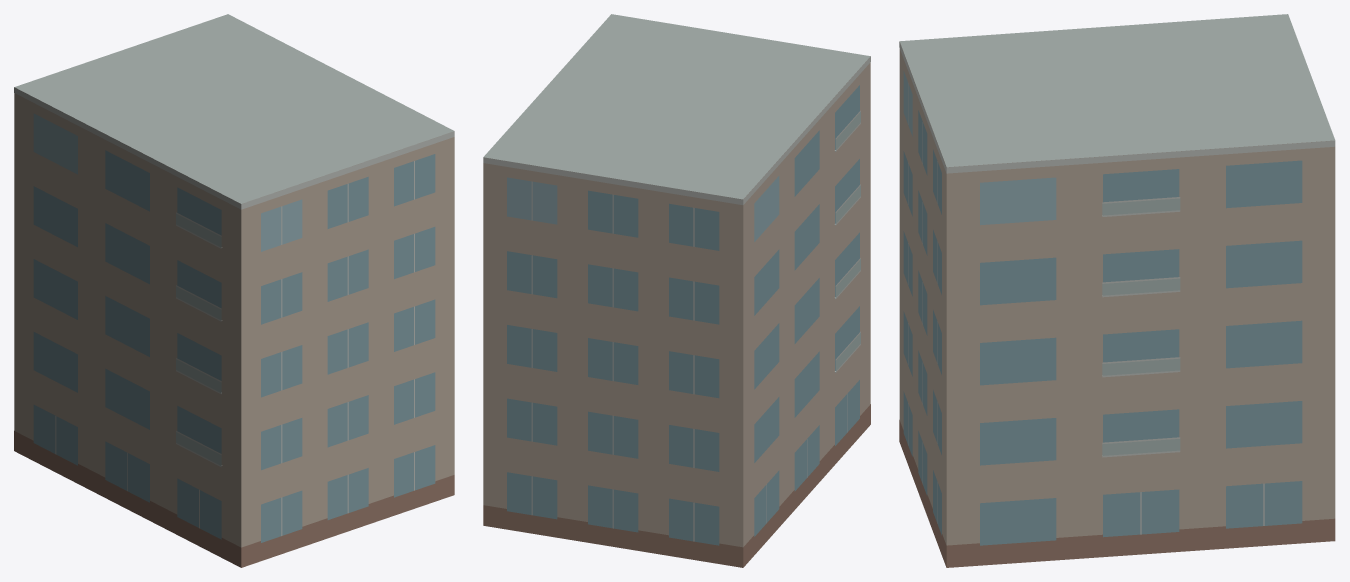
The model's file is survey-upis-32575460.glb.
3 renders of one model, left to right at view 1: azimuth 30°, elevation 25°; view 2: azimuth 150°, elevation 25°; view 3: azimuth 270°, elevation 25°, orthographic. The views are drawn at different scales.
Parts seen in each view (by area): view 1: survey-upis-32575460.tmp; view 2: survey-upis-32575460.tmp; view 3: survey-upis-32575460.tmp.
Boxes of the visible parts, left/top/right/bottom form: survey-upis-32575460.tmp: left=14, top=14, right=454, bottom=567; survey-upis-32575460.tmp: left=483, top=14, right=870, bottom=567; survey-upis-32575460.tmp: left=899, top=14, right=1335, bottom=567.
Bounding box in the file's own units: 12.73 × 15.5 × 15.3.
